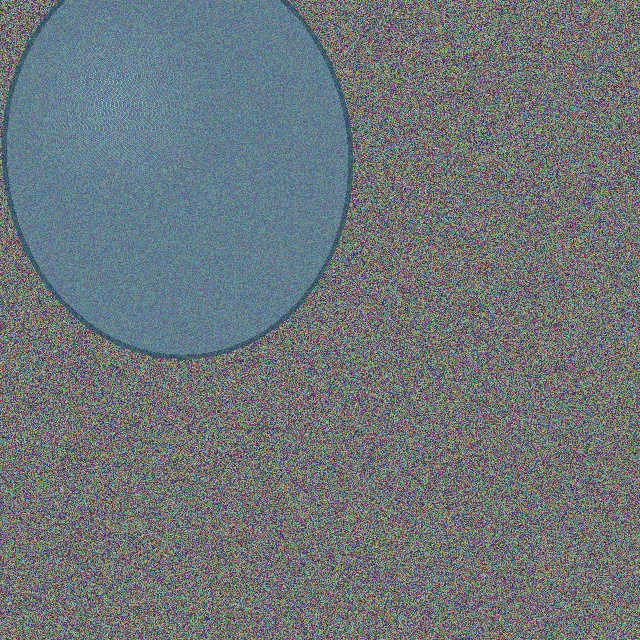lens: (5, 0, 349, 356)
